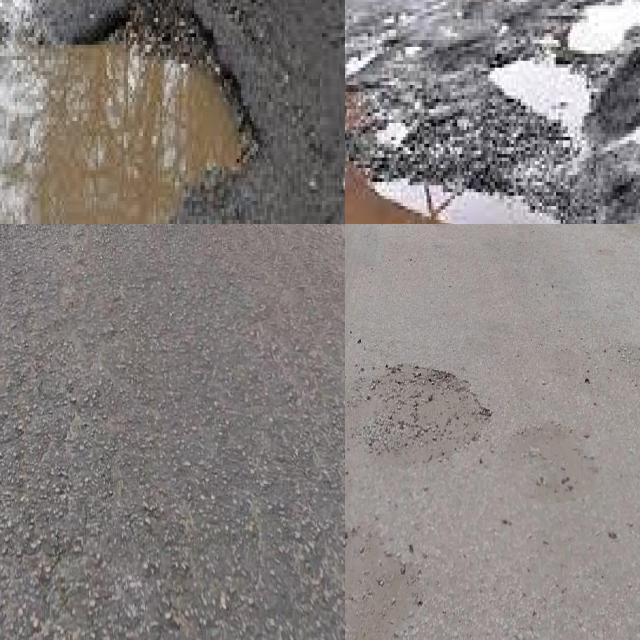Pothole: (0, 0, 245, 224), (345, 360, 493, 466), (345, 168, 557, 224), (502, 420, 605, 512), (490, 64, 589, 133), (568, 9, 640, 57), (615, 123, 640, 147)
